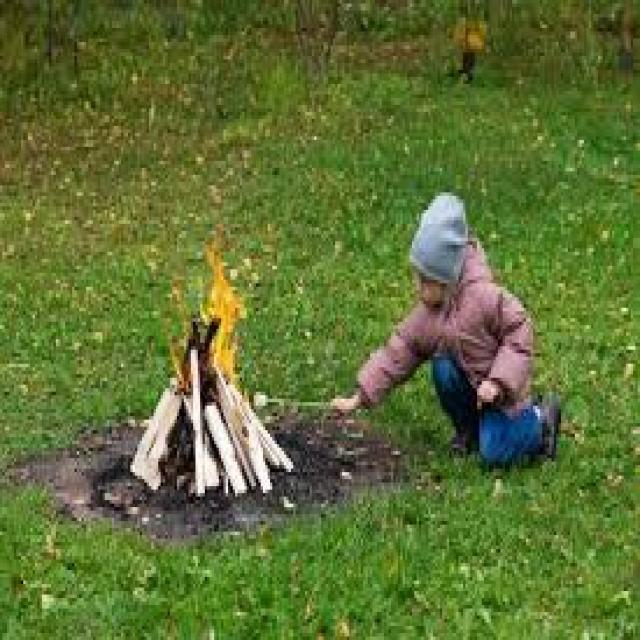fire: (205, 222, 240, 385)
